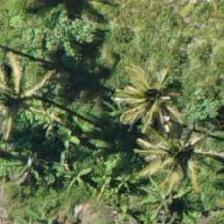coconut_tree: (98, 41, 188, 131), (131, 112, 221, 202), (0, 45, 47, 135)
